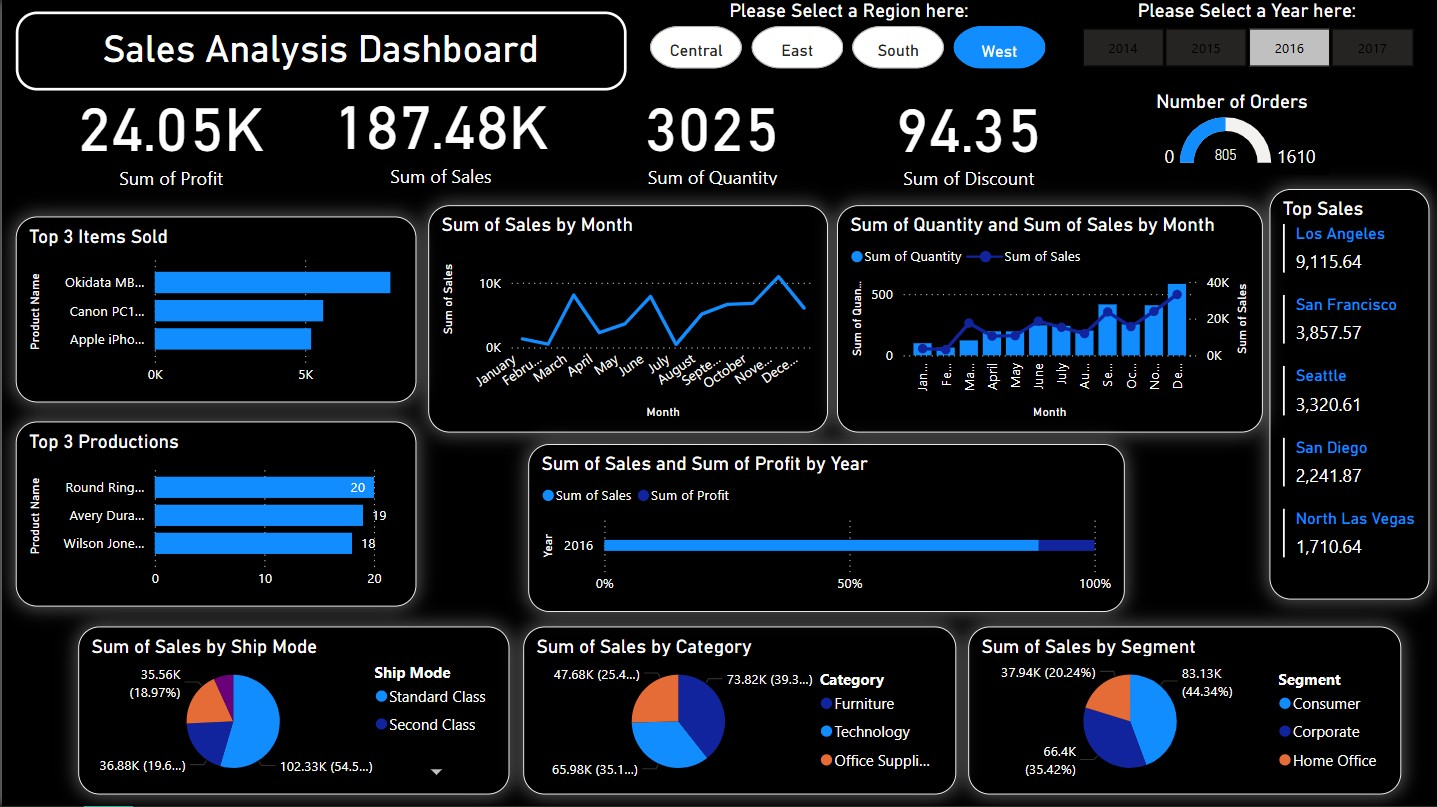

The page's visual inventory and layout, read from the dashboard file:
{"tool":"powerbi","page":{"name":"Page 1","canvas":[1280,720],"ordinal":0},"visuals":[{"type":"card","fields":{"Values":["Sum(sample_-_superstore xls - Orders.Profit)"]},"box":[42.3,70.1,217.1,101.3],"z":0},{"type":"card","fields":{"Values":["Sum(sample_-_superstore xls - Orders.Sales)"]},"box":[273.6,67.5,234.4,101.8],"z":1000},{"type":"card","fields":{"Values":["Sum(sample_-_superstore xls - Orders.Discount)"]},"box":[763.2,69.9,195.1,101.8],"z":2000},{"type":"card","fields":{"Values":["Sum(sample_-_superstore xls - Orders.Quantity)"]},"box":[531.3,68.7,203.7,101.8],"z":3000},{"type":"advancedSlicerVisual","title":"Please Select a Region here: ","fields":{"Values":["sample_-_superstore xls - Orders.Region"]},"box":[572.2,0,363.6,67.2],"z":4000},{"type":"slicer","title":"Please Select a Year here: ","fields":{"Values":["sample_-_superstore xls - Orders.Order Date.Variation.Date Hierarchy.Year"]},"box":[935.9,0,344.4,67.2],"z":5000},{"type":"multiRowCard","title":"Top Sales","fields":{"Values":["Sum(sample_-_superstore xls - Orders.Profit)","sample_-_superstore xls - Orders.City"]},"box":[1128.8,169.3,142.3,365.6],"z":6000},{"type":"lineChart","fields":{"Category":["sample_-_superstore xls - Orders.Order Date.Variation.Date Hierarchy.Month"],"Y":["Sum(sample_-_superstore xls - Orders.Sales)"]},"box":[379.1,184.1,355.8,202.5],"z":7000},{"type":"pieChart","fields":{"Y":["Sum(sample_-_superstore xls - Orders.Sales)"],"Category":["sample_-_superstore xls - Orders.Ship Mode"]},"box":[67.5,558.3,384.1,149.7],"z":8000},{"type":"pieChart","fields":{"Y":["Sum(sample_-_superstore xls - Orders.Sales)"],"Category":["sample_-_superstore xls - Orders.Segment"]},"box":[860.1,558.3,385.3,149.7],"z":9000},{"type":"pieChart","fields":{"Y":["Sum(sample_-_superstore xls - Orders.Sales)"],"Category":["sample_-_superstore xls - Orders.Category"]},"box":[463.8,558.3,385.3,149.7],"z":10000},{"type":"gauge","title":"Number of Orders","fields":{"Y":["CountNonNull(sample_-_superstore xls - Orders.Postal Code)"]},"box":[1023.3,81,159.5,74.8],"z":11000},{"type":"lineStackedColumnComboChart","fields":{"Category":["sample_-_superstore xls - Orders.Order Date.Variation.Date Hierarchy.Month"],"Y":["Sum(sample_-_superstore xls - Orders.Quantity)"],"Y2":["Sum(sample_-_superstore xls - Orders.Sales)"]},"box":[743.6,184.1,379.1,202.5],"z":12000},{"type":"barChart","title":"Top 3 Items Sold","fields":{"Category":["sample_-_superstore xls - Orders.Product Name"],"Y":["Sum(sample_-_superstore xls - Orders.Sales)"]},"box":[12.3,193.9,357.1,165.6],"z":13000},{"type":"barChart","title":"Top 3 Productions","fields":{"Category":["sample_-_superstore xls - Orders.Product Name"],"Y":["Sum(sample_-_superstore xls - Orders.Quantity)"]},"box":[12.3,376.7,357.1,165],"z":14000},{"type":"hundredPercentStackedBarChart","fields":{"Category":["sample_-_superstore xls - Orders.Order Date.Variation.Date Hierarchy.Year","sample_-_superstore xls - Orders.Order Date.Variation.Date Hierarchy.Quarter"],"Y":["Sum(sample_-_superstore xls - Orders.Sales)","Sum(sample_-_superstore xls - Orders.Profit)"]},"box":[468.7,396.3,531.3,149.7],"z":15000},{"type":"textbox","box":[12.2,11.1,544.3,70.1],"z":15001}]}

Visuals, with their boxes in screenshot pixels (x1, y1, x2, y2), scaled from the page's 1280x720 canvas onto the 1437x807 screenshot:
card - Sum(sample_-_superstore xls - Orders.Profit): 47, 79, 291, 192
card - Sum(sample_-_superstore xls - Orders.Sales): 307, 76, 570, 190
card - Sum(sample_-_superstore xls - Orders.Discount): 857, 78, 1076, 192
card - Sum(sample_-_superstore xls - Orders.Quantity): 596, 77, 825, 191
"Please Select a Region here: " advancedSlicerVisual: 642, 0, 1051, 75
"Please Select a Year here: " slicer: 1051, 0, 1436, 75
"Top Sales" multiRowCard: 1267, 190, 1427, 600
lineChart - sample_-_superstore xls - Orders.Order Date.Variation.Date Hierarchy.Month x Sum(sample_-_superstore xls - Orders.Sales): 426, 206, 825, 433
pieChart - Sum(sample_-_superstore xls - Orders.Sales) x sample_-_superstore xls - Orders.Ship Mode: 76, 626, 507, 794
pieChart - Sum(sample_-_superstore xls - Orders.Sales) x sample_-_superstore xls - Orders.Segment: 966, 626, 1398, 794
pieChart - Sum(sample_-_superstore xls - Orders.Sales) x sample_-_superstore xls - Orders.Category: 521, 626, 953, 794
"Number of Orders" gauge: 1149, 91, 1328, 175
lineStackedColumnComboChart - sample_-_superstore xls - Orders.Order Date.Variation.Date Hierarchy.Month x Sum(sample_-_superstore xls - Orders.Quantity): 835, 206, 1260, 433
"Top 3 Items Sold" barChart: 14, 217, 415, 403
"Top 3 Productions" barChart: 14, 422, 415, 607
hundredPercentStackedBarChart - sample_-_superstore xls - Orders.Order Date.Variation.Date Hierarchy.Year x sample_-_superstore xls - Orders.Order Date.Variation.Date Hierarchy.Quarter: 526, 444, 1123, 612
textbox: 14, 12, 625, 91
